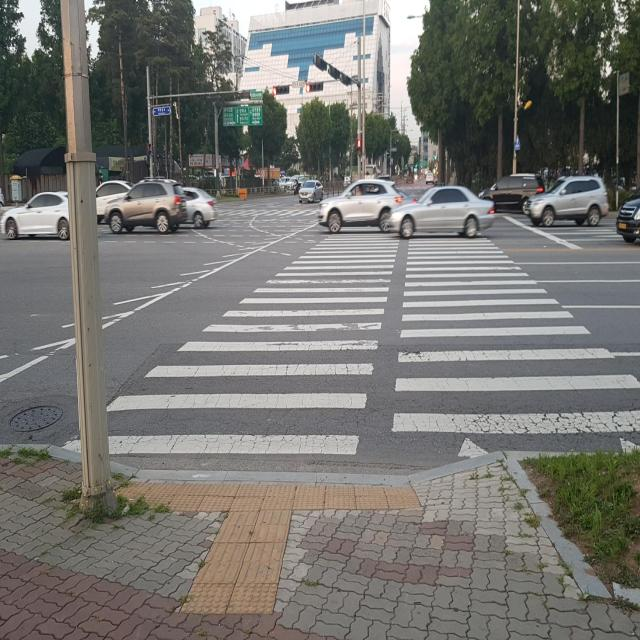횡단보도: (59, 226, 640, 465)
